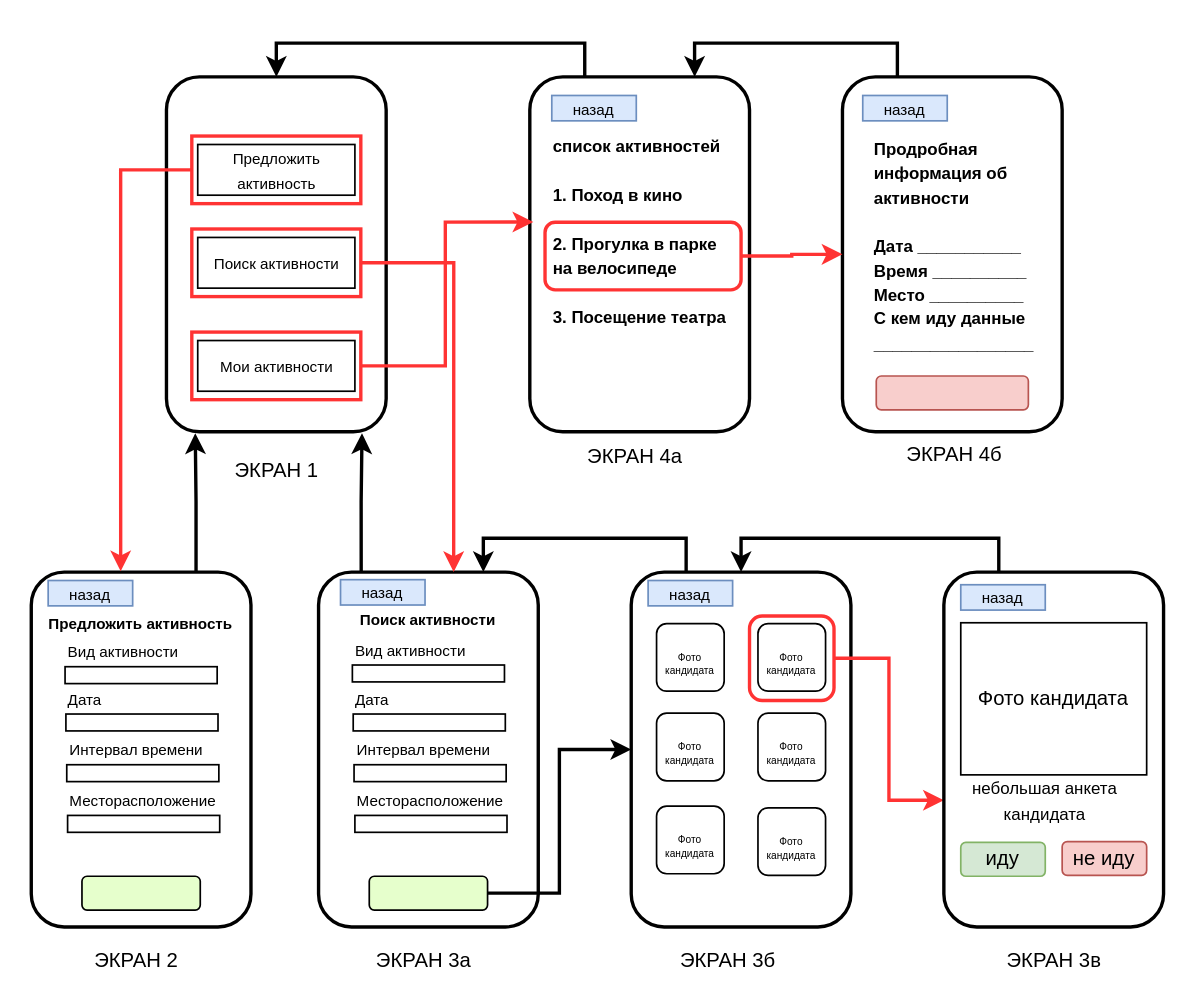
Some shapes in this 1193 by 1006 pixel diagram are drawn without their labels. The box of each missing label's shape, as (x1, y1, x2, y2) in pixels:
Опубликовать: (80, 875, 200, 910)
Отменить: (875, 374, 1028, 410)
Поиск: (368, 875, 488, 910)
